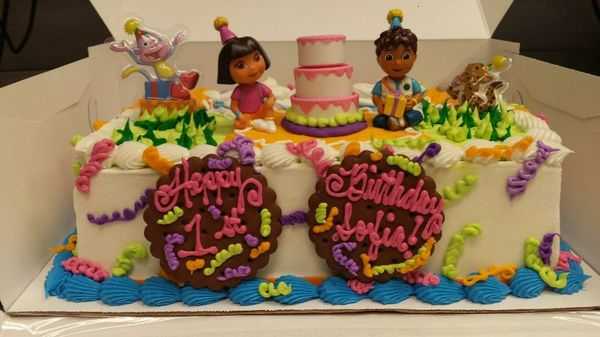sushi: (143, 137, 283, 292), (307, 140, 445, 282), (282, 33, 370, 136)
